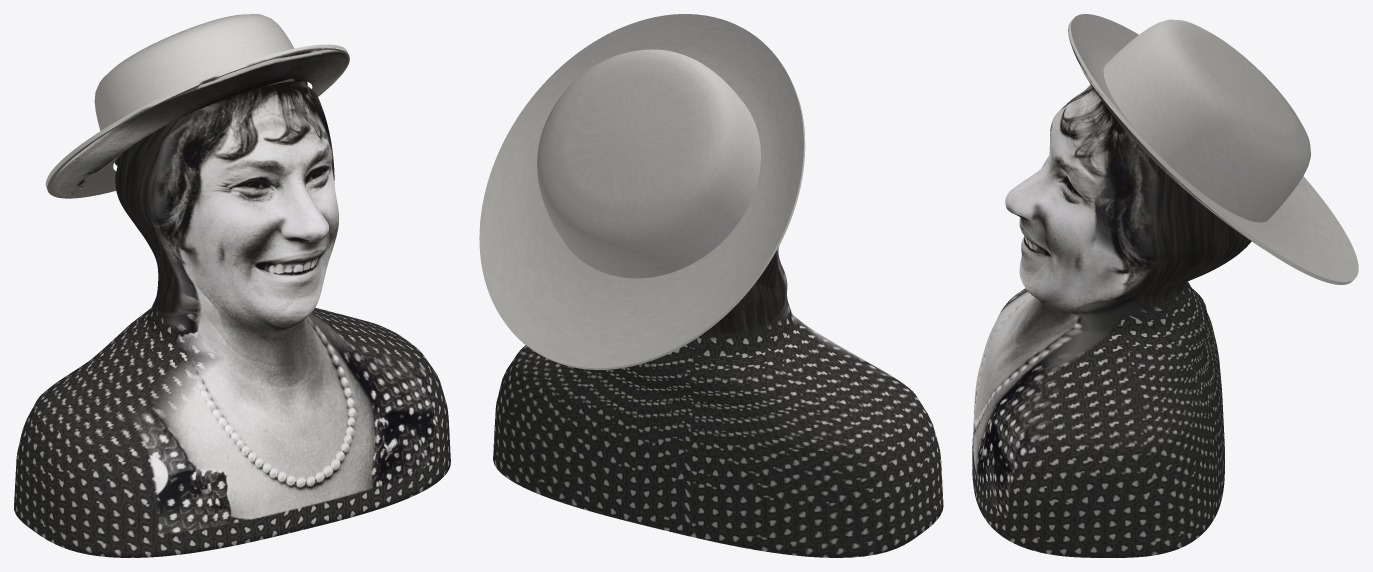
File: bella_abzug.glb
3 renders of one model, left to right at view 1: azimuth 30°, elevation 25°; view 2: azimuth 150°, elevation 25°; view 3: azimuth 270°, elevation 25°, orthographic. The views are drawn at different scales.
Visible parts, largest first — view 1: body, crown_out, brim_under, brim_rim; view 2: body, brim_top, crown_out, brim_rim; view 3: body, crown_out, brim_top, brim_rim, brim_under.
Part boxes in pixels (x1,y1,x2,y2): body: (14, 81, 450, 557); crown_out: (94, 14, 294, 130); brim_under: (47, 48, 349, 198); brim_rim: (45, 44, 348, 188); body: (493, 246, 943, 557); brim_top: (479, 14, 803, 368); crown_out: (537, 49, 760, 278); brim_rim: (508, 68, 805, 369); body: (972, 84, 1251, 557); crown_out: (1103, 19, 1310, 222); brim_top: (1071, 14, 1358, 281); brim_rim: (1068, 19, 1353, 284); brim_under: (1073, 51, 1262, 248).
Bounding box in the file's own units: 0.376 × 0.3953 × 0.315.
Materials: 6 (6 with a texture image).
